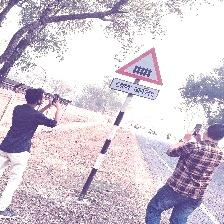Rail-crossing: (109, 47, 163, 101)
